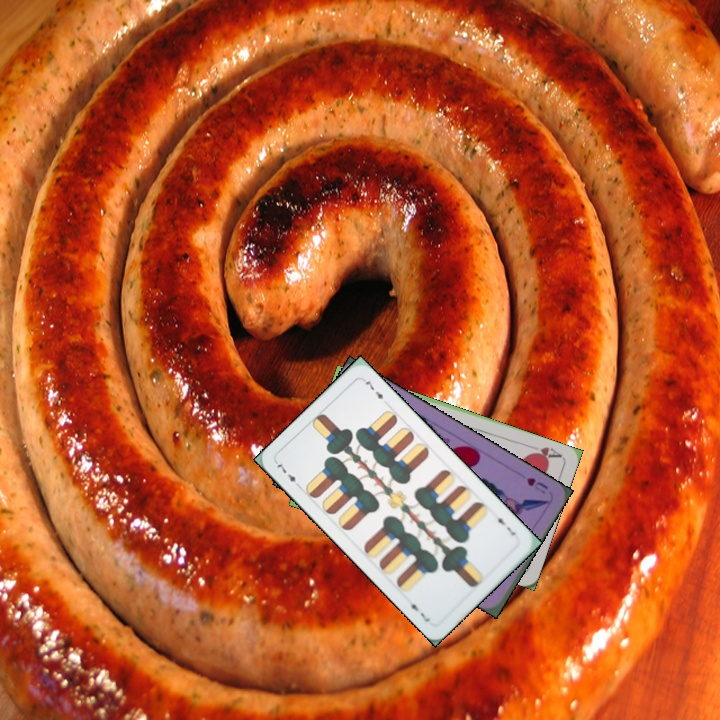E7: (272, 458, 304, 490), (491, 509, 518, 538)
HA: (524, 443, 564, 462)
HU: (523, 473, 551, 496)
